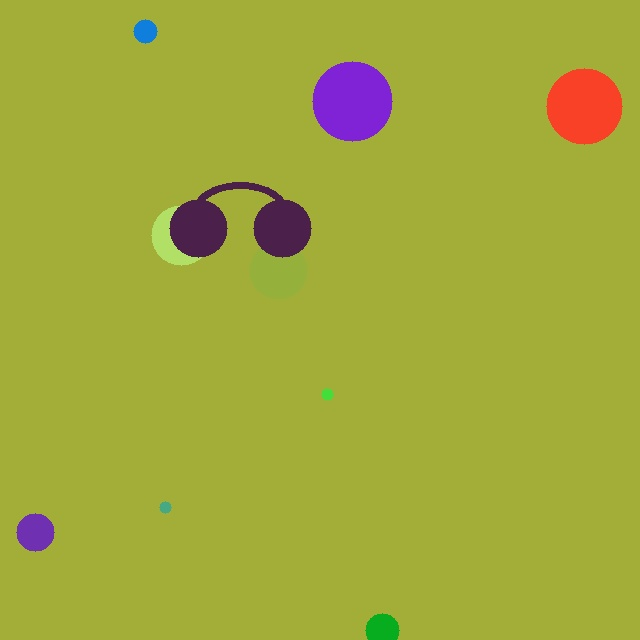over_ear: (165, 170, 315, 261)
